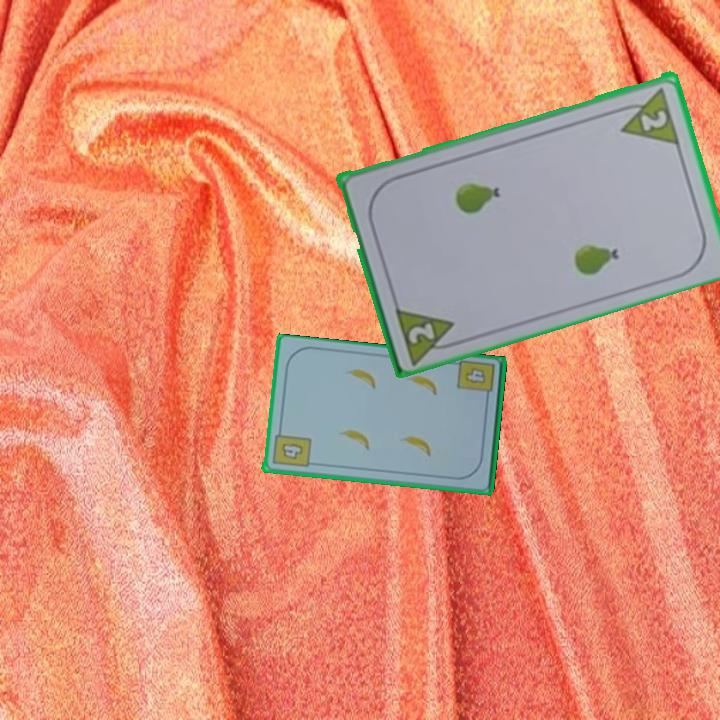2p: (611, 83, 683, 147), (391, 301, 463, 365)
4b: (268, 425, 313, 470), (454, 357, 497, 404)
